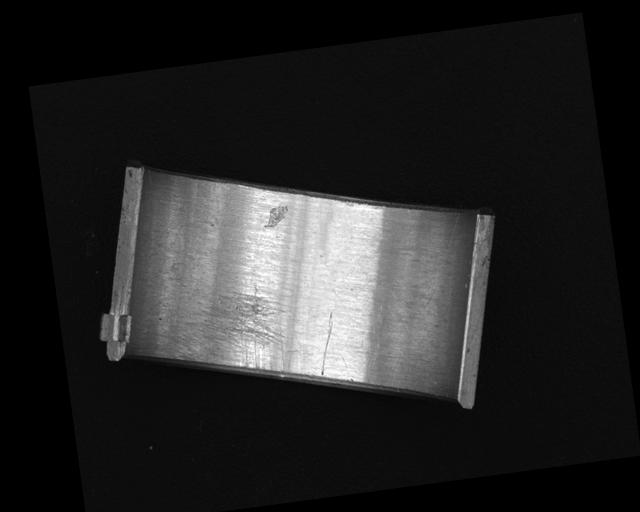bruise: (261, 205, 290, 228)
nick: (413, 212, 471, 307), (312, 312, 342, 376)
scratch: (167, 280, 295, 390)
